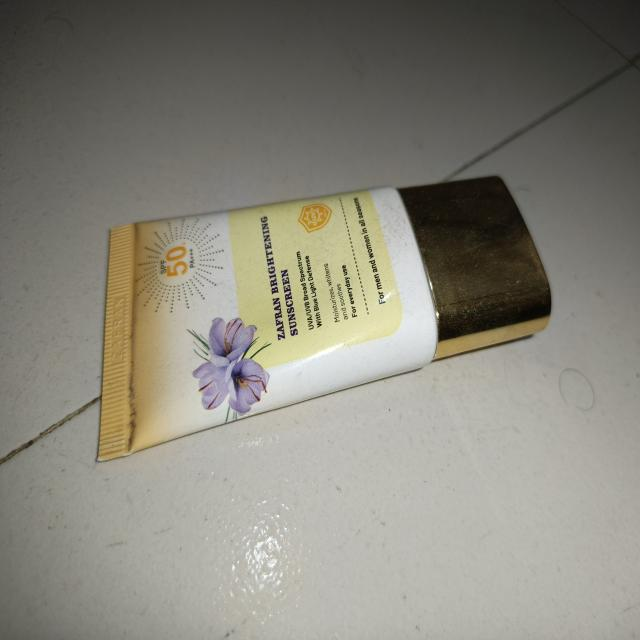Squeeze Tube: (96, 178, 598, 470)
